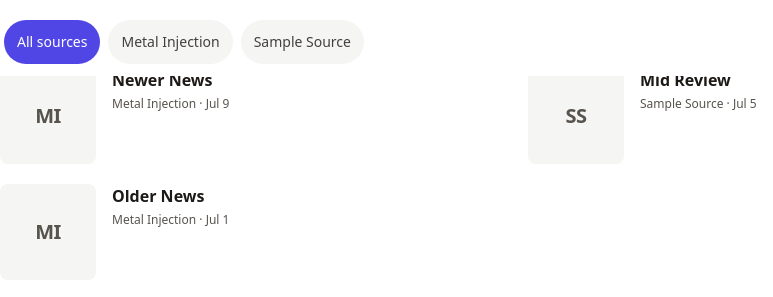
Test case: FeedArticleBoard source filter queries the source directly (spec 041 US3, FR-008-FR-011) › renders the mocked direct-query result instead of the categories prop once a source is selected
The image size is (773, 297).
Click the button "Sample Source". click: (302, 42)
box: [241,20,364,64]
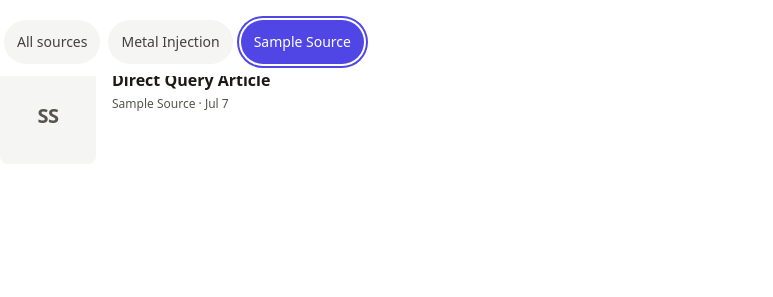
Result: the heading "Direct Query Article" is shown at [112,69,270,91]
Result: the link "Newer News" is gone
